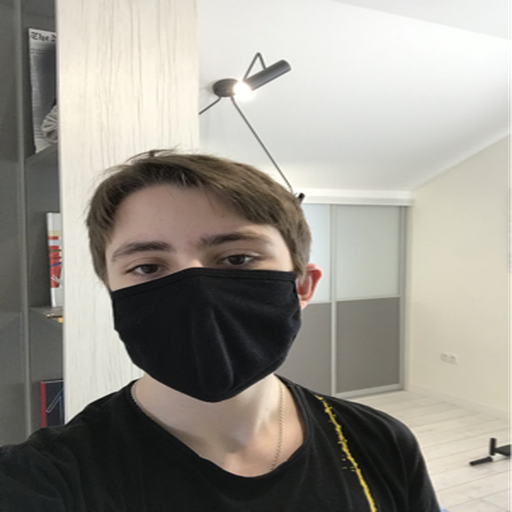mask: (104, 267, 306, 401)
